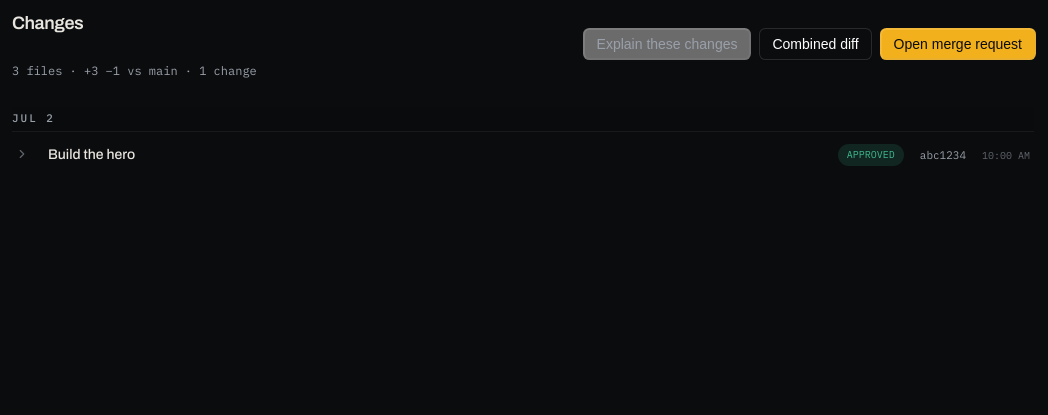
Changes commit list › combined diff: truncated diff without server stats shows the honest partial note
Click the button "Combined diff".
click(816, 44)  # box [760,28,872,60]
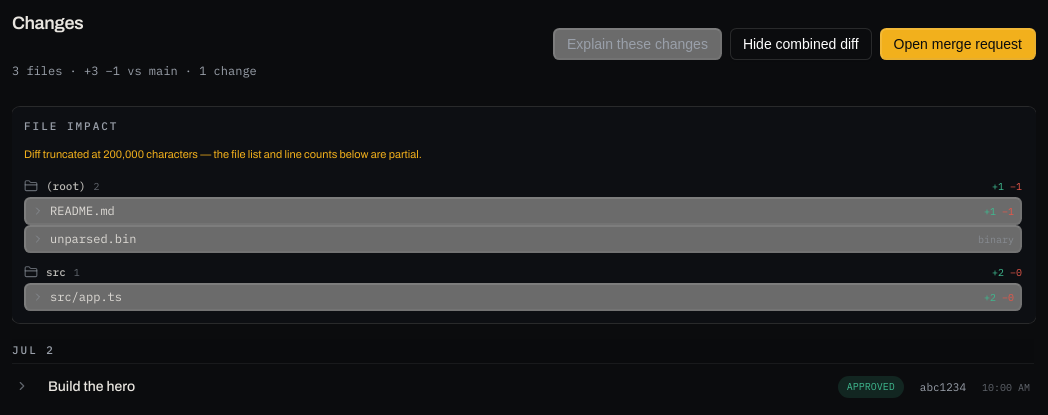
Result: the text "Diff truncated at 200,000 characters" is shown at [24,148,422,160]
Result: the text "binary" is shown at [978,233,1014,246]
